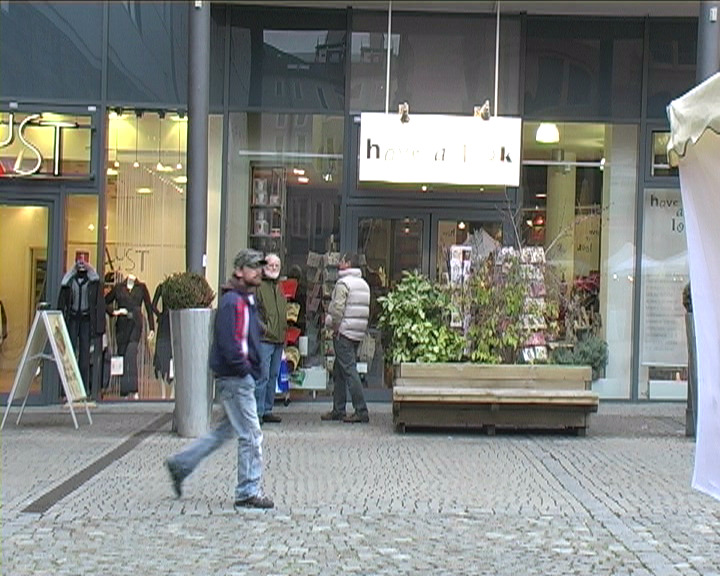deflection: (216, 248, 272, 349)
